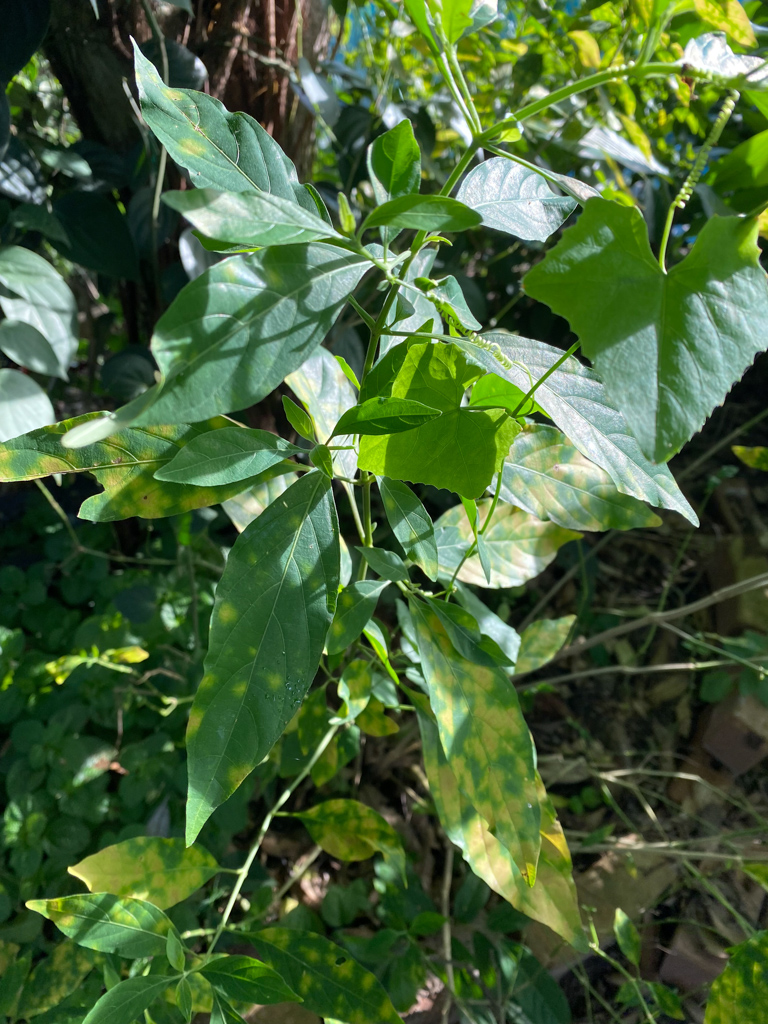Pepper yellow leaf: (397, 595, 608, 962), (3, 402, 259, 526), (177, 595, 292, 807), (505, 417, 663, 533), (21, 886, 181, 975), (63, 831, 231, 912), (264, 925, 380, 1019), (432, 508, 575, 573), (701, 937, 764, 1020), (302, 799, 392, 857), (340, 657, 370, 718)
